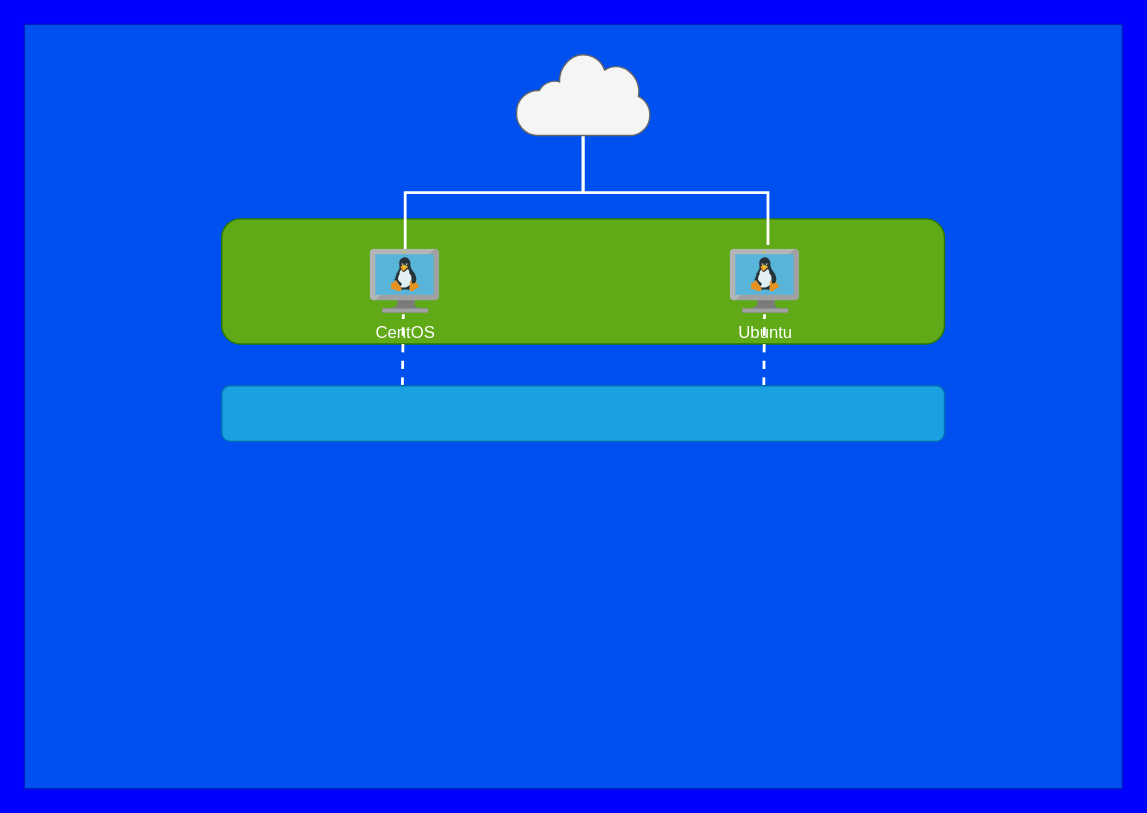
Some shapes in this 1147 by 813 pixel diagram are drawn without their labels. Here are the shapes that lost their labels. From the top down, the box of each, then its label:
(514, 51, 651, 136): Internet
(220, 384, 945, 441): Private network
